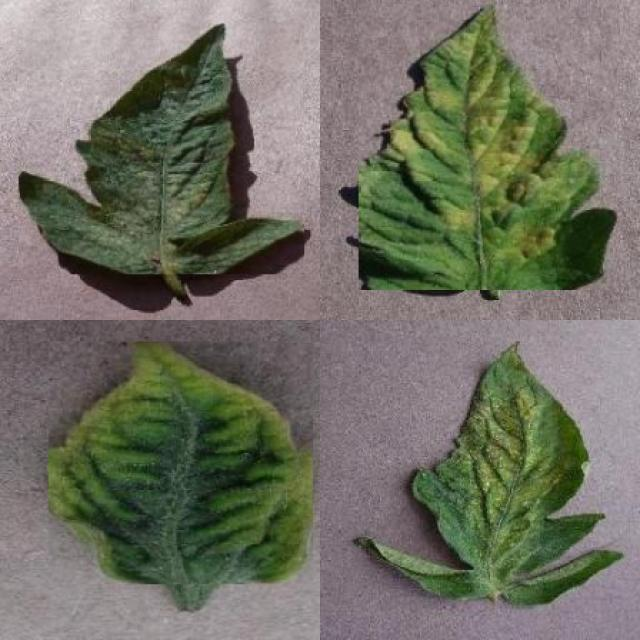Leaf Mold: (359, 5, 617, 291)
Spider Mites: (19, 22, 304, 274), (358, 342, 623, 608)
Yellow Leaf Curl Virus: (48, 342, 313, 585)
